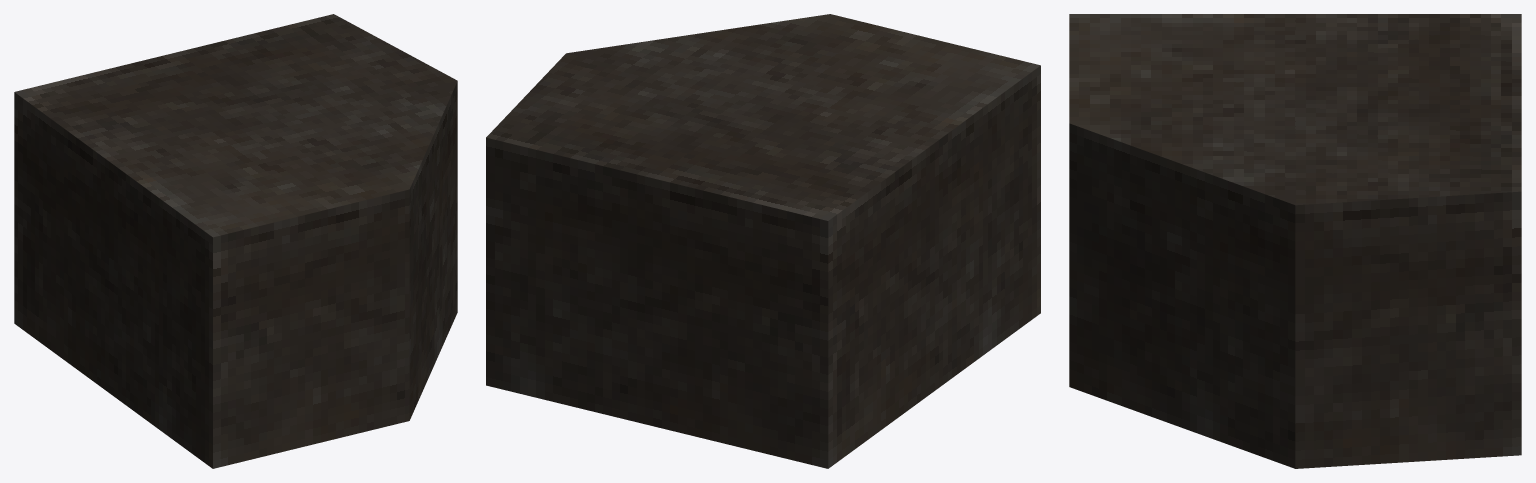
Rendered from brick_mx_3_2.glb.
The picture shows the model from 3 angles, left to right: view 1: azimuth 30°, elevation 25°; view 2: azimuth 150°, elevation 25°; view 3: azimuth 270°, elevation 25°; orthographic projection. The views are drawn at different scales.
Parts seen in each view (by area): view 1: brick_mx_3_2; view 2: brick_mx_3_2; view 3: brick_mx_3_2.
Part boxes in pixels (<box>): brick_mx_3_2: <box>14,14,457,468</box>; brick_mx_3_2: <box>486,14,1040,468</box>; brick_mx_3_2: <box>1069,14,1521,468</box>.
Bounding box in the file's own units: 0.14 × 0.09 × 0.14.
1 material, 1 textured.
